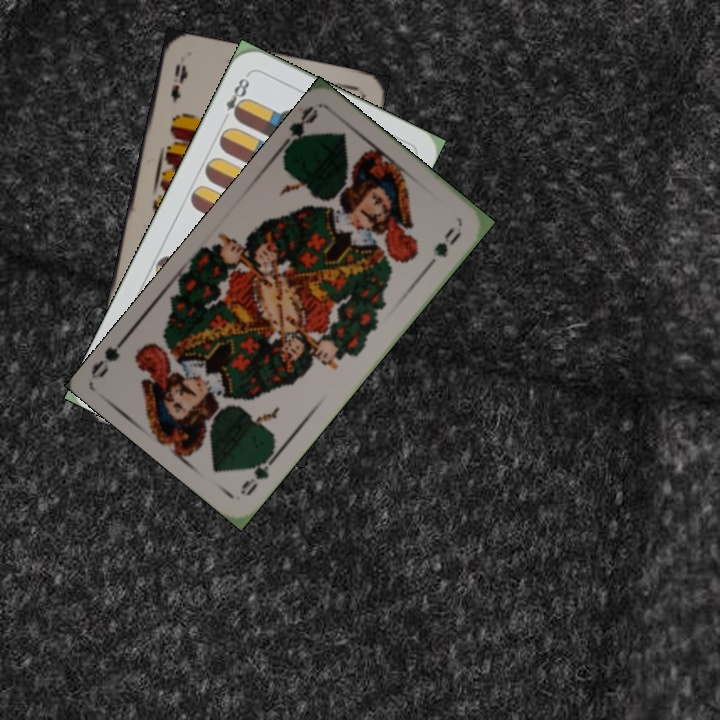E8: (218, 70, 252, 125)
E9: (166, 60, 191, 105)
GO: (274, 102, 321, 157), (236, 445, 281, 499)
